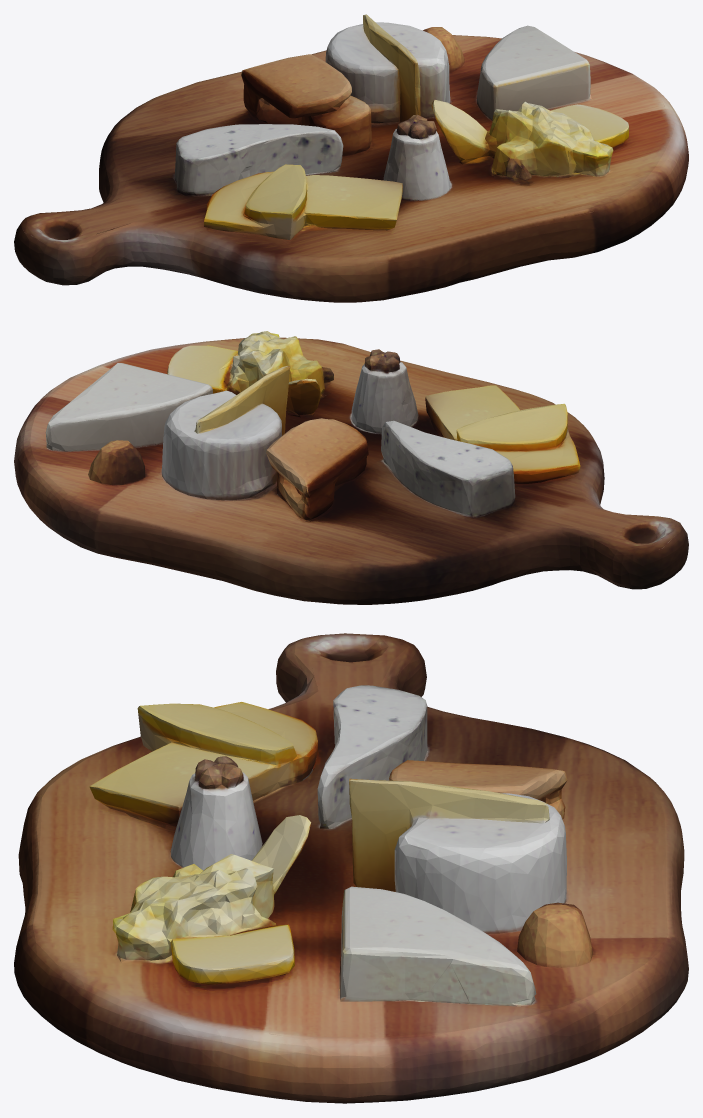
File: wooden-cheese-board-3d.jpeg.glb
3 renders of one model, top to bottom at view 1: azimuth 30°, elevation 25°; view 2: azimuth 150°, elevation 25°; view 3: azimuth 270°, elevation 25°, orthographic. The views are drawn at different scales.
Visible parts, largest first — view 1: world; view 2: world; view 3: world.
Part boxes in pixels (x1=…): world: x1=14, y1=14, x2=688, y2=302; world: x1=14, y1=331, x2=688, y2=604; world: x1=14, y1=633, x2=688, y2=1103.
Bounding box in the file's own units: 1 × 0.1834 × 0.6678.
1 material, 1 textured.
